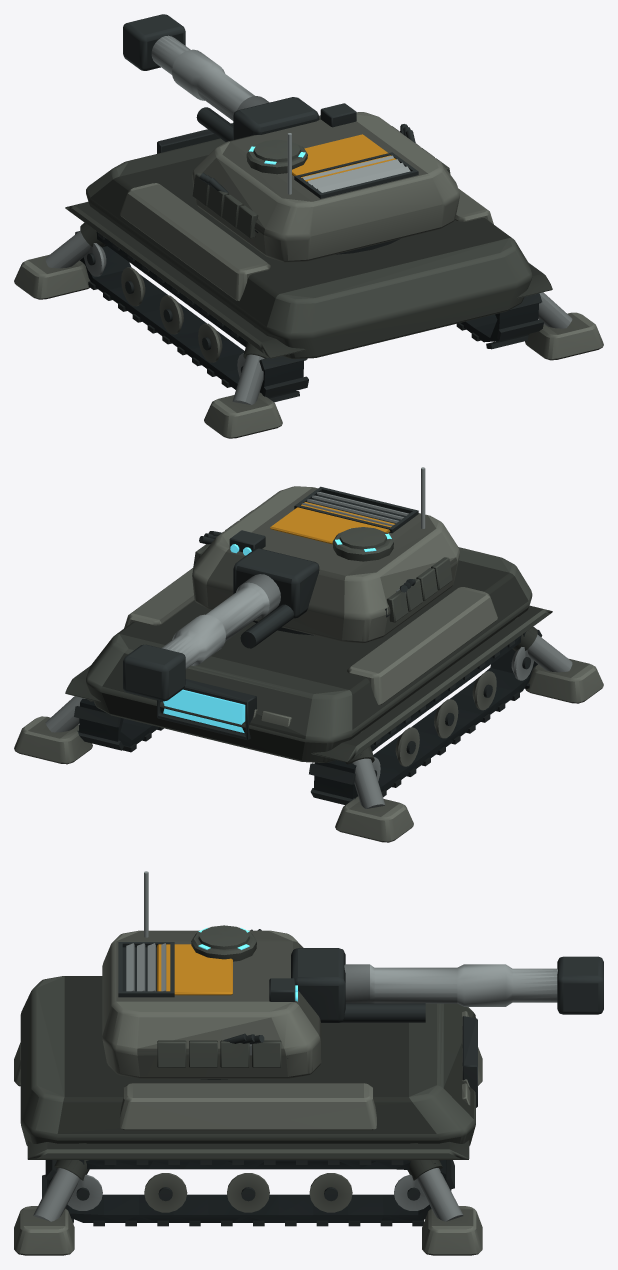
Rendered from SiegeColossus.glb.
The picture shows the model from 3 angles, top to bottom: view 1: azimuth 30°, elevation 25°; view 2: azimuth 150°, elevation 25°; view 3: azimuth 270°, elevation 25°; orthographic projection. The views are drawn at different scales.
Visible parts, largest first — view 1: export_SiegeColossus_TrackBelt, export_SiegeColossus_SiegeTurret, export_SiegeColossus_Mantlet, export_SiegeColossus_Mount, export_SiegeColossus_Mount.001, export_SiegeColossus_Mount.002, export_SiegeColossus_Tread, export_SiegeColossus_Tread.028; view 2: export_SiegeColossus_TrackBelt, export_SiegeColossus_SiegeTurret, export_SiegeColossus_Mantlet, export_SiegeColossus_Mount.001, export_SiegeColossus_Mount, export_SiegeColossus_Mount.003, export_SiegeColossus_Tread, export_SiegeColossus_Tread.028; view 3: export_SiegeColossus_TrackBelt, export_SiegeColossus_SiegeTurret, export_SiegeColossus_Mantlet, export_SiegeColossus_Mount.003, export_SiegeColossus_Mount.002, export_SiegeColossus_Tread.028.
Part boxes in pixels (left/top/right/bottom): export_SiegeColossus_TrackBelt: left=65, top=115, right=552, bottom=397; export_SiegeColossus_SiegeTurret: left=192, top=103, right=459, bottom=262; export_SiegeColossus_Mantlet: left=123, top=14, right=319, bottom=142; export_SiegeColossus_Mount: left=204, top=326, right=282, bottom=438; export_SiegeColossus_Mount.001: left=14, top=213, right=105, bottom=299; export_SiegeColossus_Mount.002: left=525, top=292, right=603, bottom=360; export_SiegeColossus_Tread: left=75, top=231, right=308, bottom=402; export_SiegeColossus_Tread.028: left=456, top=293, right=543, bottom=349; export_SiegeColossus_TrackBelt: left=65, top=547, right=552, bottom=798; export_SiegeColossus_SiegeTurret: left=192, top=486, right=459, bottom=643; export_SiegeColossus_Mantlet: left=123, top=548, right=319, bottom=701; export_SiegeColossus_Mount.001: left=335, top=730, right=413, bottom=842; export_SiegeColossus_Mount: left=512, top=617, right=603, bottom=703; export_SiegeColossus_Mount.003: left=14, top=696, right=92, bottom=764; export_SiegeColossus_Tread: left=309, top=629, right=542, bottom=804; export_SiegeColossus_Tread.028: left=74, top=706, right=163, bottom=752; export_SiegeColossus_TrackBelt: left=20, top=976, right=477, bottom=1222; export_SiegeColossus_SiegeTurret: left=102, top=925, right=321, bottom=1078; export_SiegeColossus_Mantlet: left=291, top=948, right=603, bottom=1022; export_SiegeColossus_Mount.003: left=407, top=1143, right=482, bottom=1255; export_SiegeColossus_Mount.002: left=14, top=1143, right=89, bottom=1255; export_SiegeColossus_Tread.028: left=42, top=1160, right=454, bottom=1226.
Bounding box in the file's own units: 4.87 × 2.83 × 6.07.
